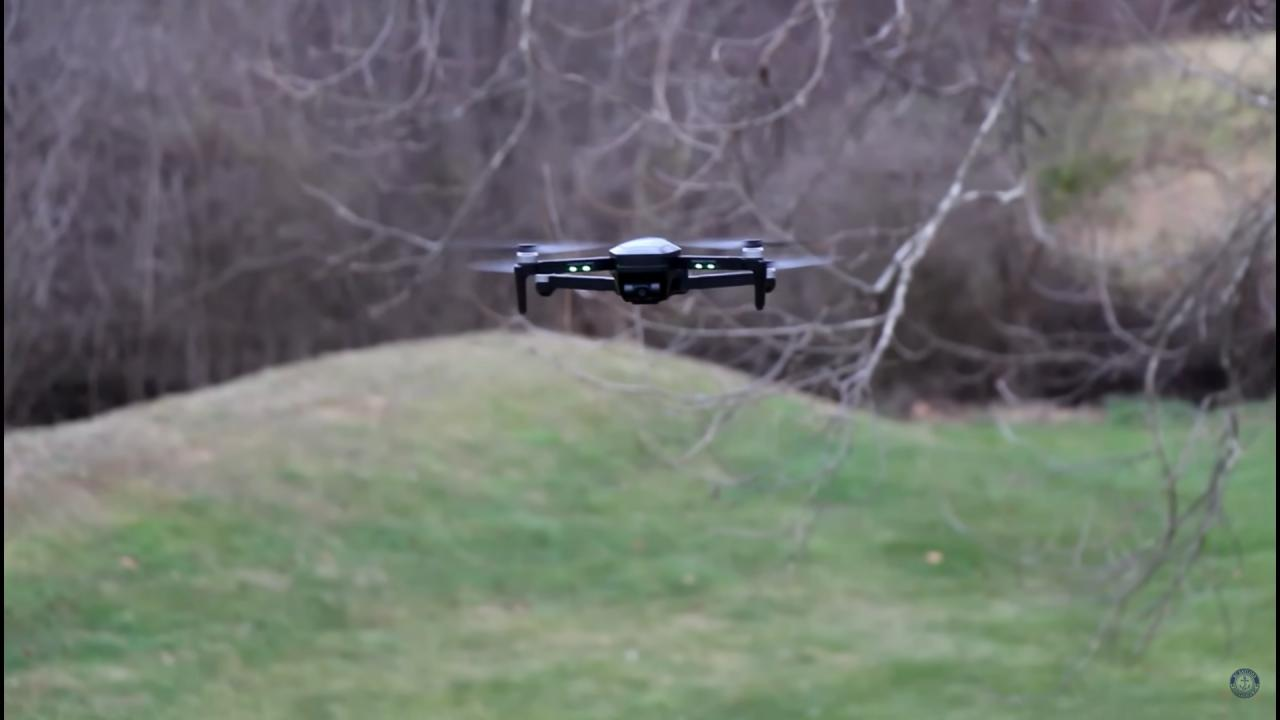Drone: (432, 230, 857, 320)
